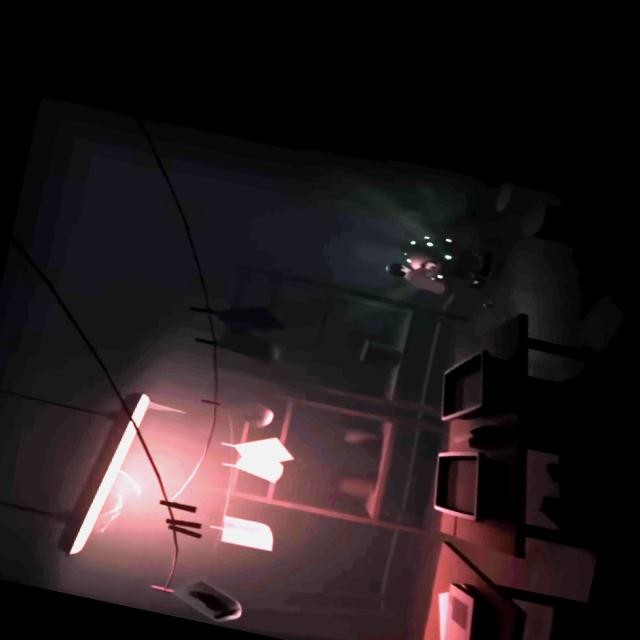boy: (384, 234, 494, 302)
